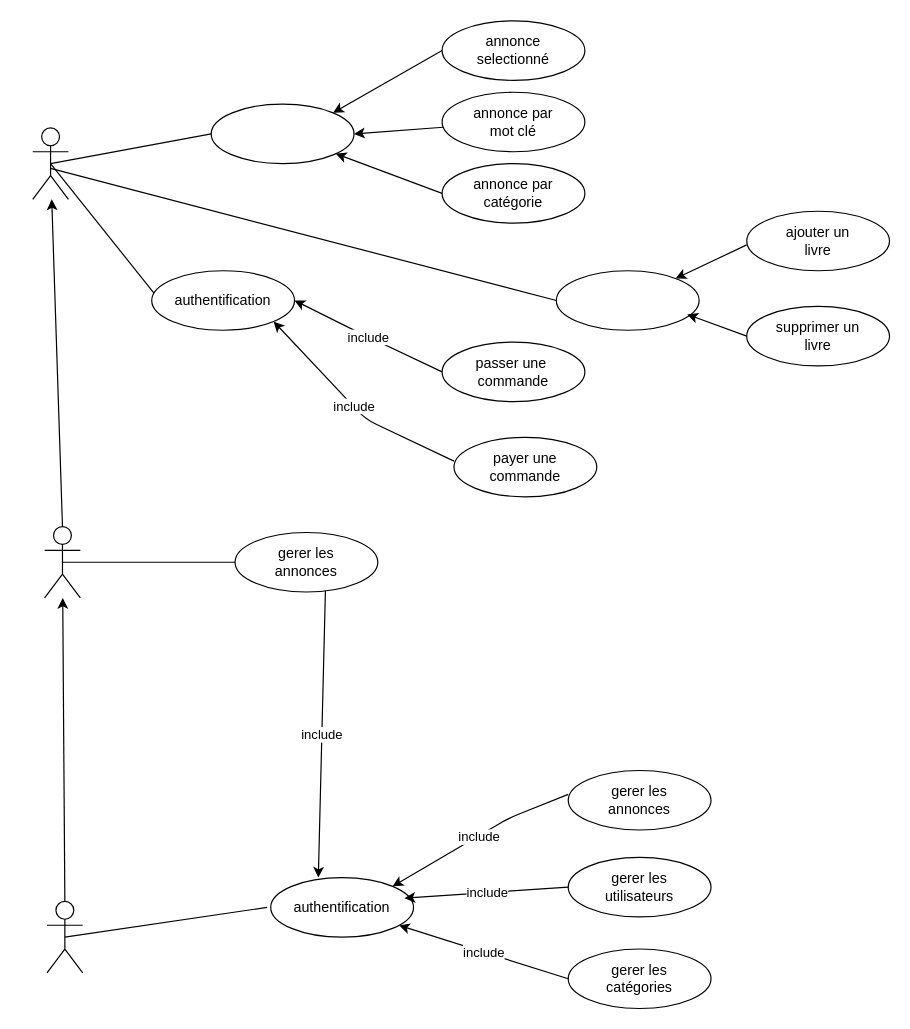
This 910x1029 diagram has some shape labels left out. The centre of each missing label's shape, as x and y in pixels:
"Admin" belongs at point 64,936.
"consulter" belongs at point 282,133.
"panier" belongs at point 627,300.
"utilisateur" belongs at point 50,163.
"Vendeur" belongs at point 61,561.
